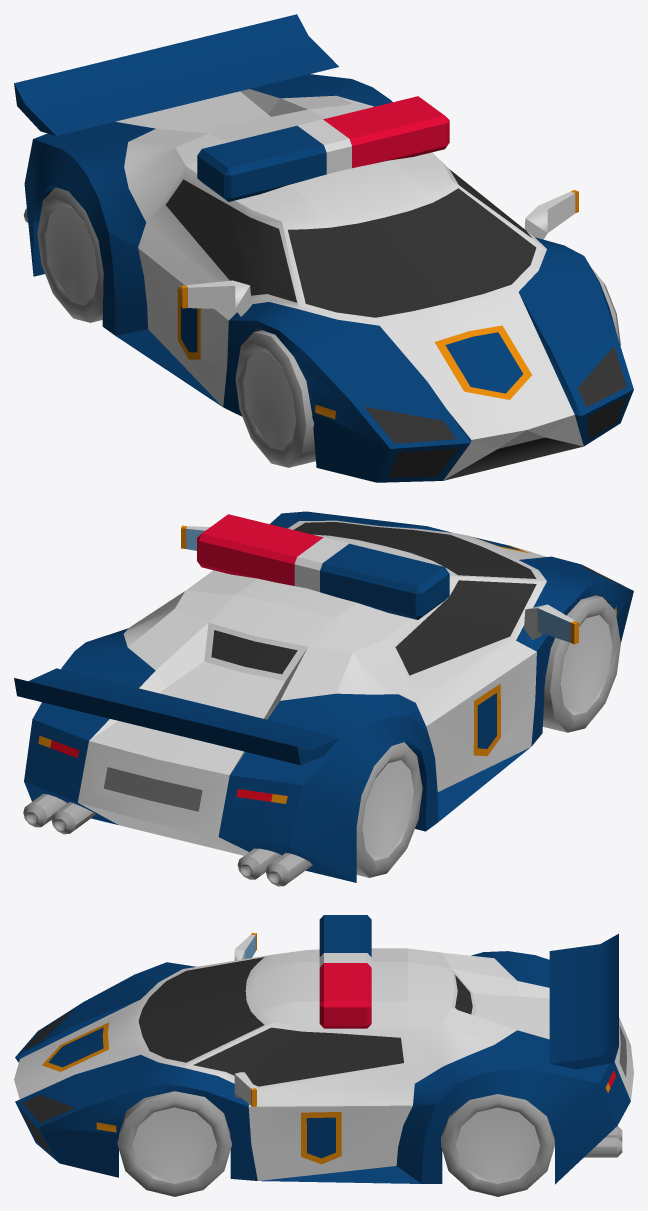
File: police.fbx
The picture shows the model from 3 angles, top to bottom: view 1: azimuth 30°, elevation 25°; view 2: azimuth 150°, elevation 25°; view 3: azimuth 270°, elevation 25°; orthographic projection. The views are drawn at different scales.
Parts seen in each view (by area): view 1: police, signal, wheel_2, wheel_1; view 2: police, signal, wheel_2, wheel_1; view 3: police, wheel_3, wheel_4, signal.
Part boxes in pixels (box(x1,y1,x2,y2)): police: box(14, 14, 633, 482); signal: box(197, 96, 449, 201); wheel_2: box(235, 330, 315, 467); wheel_1: box(37, 187, 103, 322); police: box(14, 511, 633, 886); signal: box(197, 514, 449, 619); wheel_2: box(543, 595, 620, 732); wheel_1: box(356, 742, 422, 877); police: box(14, 932, 633, 1184); wheel_3: box(117, 1091, 231, 1196); wheel_4: box(441, 1094, 554, 1196); signal: box(319, 915, 371, 1028).
Size of the model in its own units: 461 by 240 by 765.
